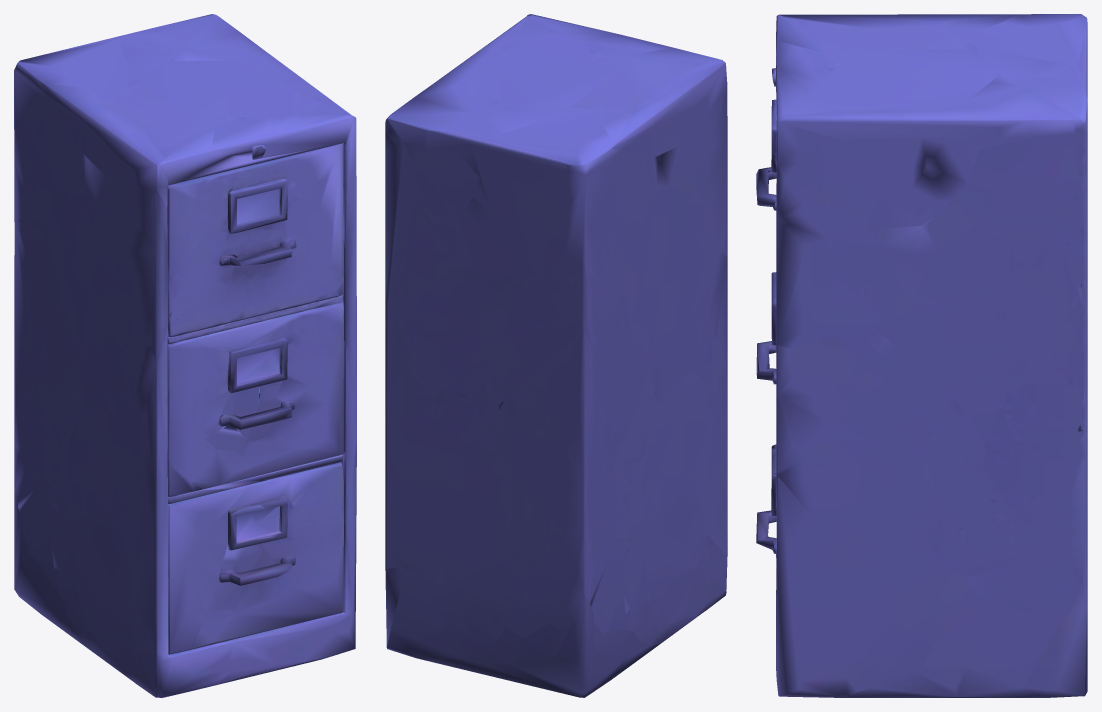
Rendered from model.progressive.glb.
3 views of the same model, side by side, from view 1: azimuth 30°, elevation 25°; view 2: azimuth 150°, elevation 25°; view 3: azimuth 270°, elevation 25° (orthographic). The views are drawn at different scales.
Parts seen in each view (by area): view 1: FillingCabinet5; view 2: FillingCabinet5; view 3: FillingCabinet5.
Part boxes in pixels (x1,y1,x2,y2): FillingCabinet5: (14, 14, 356, 697); FillingCabinet5: (385, 14, 727, 697); FillingCabinet5: (756, 14, 1087, 697).
Bounding box in the file's own units: 0.3993 × 1.02 × 0.5251.
1 material, 1 textured.
